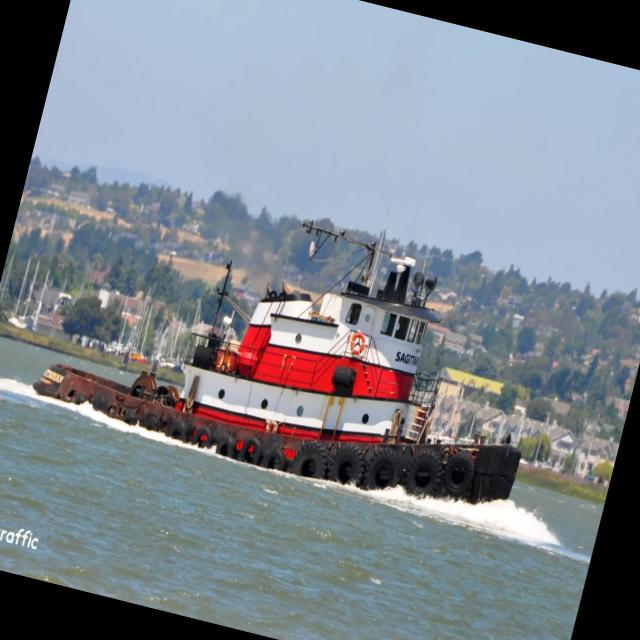Tug: (34, 245, 520, 502)
